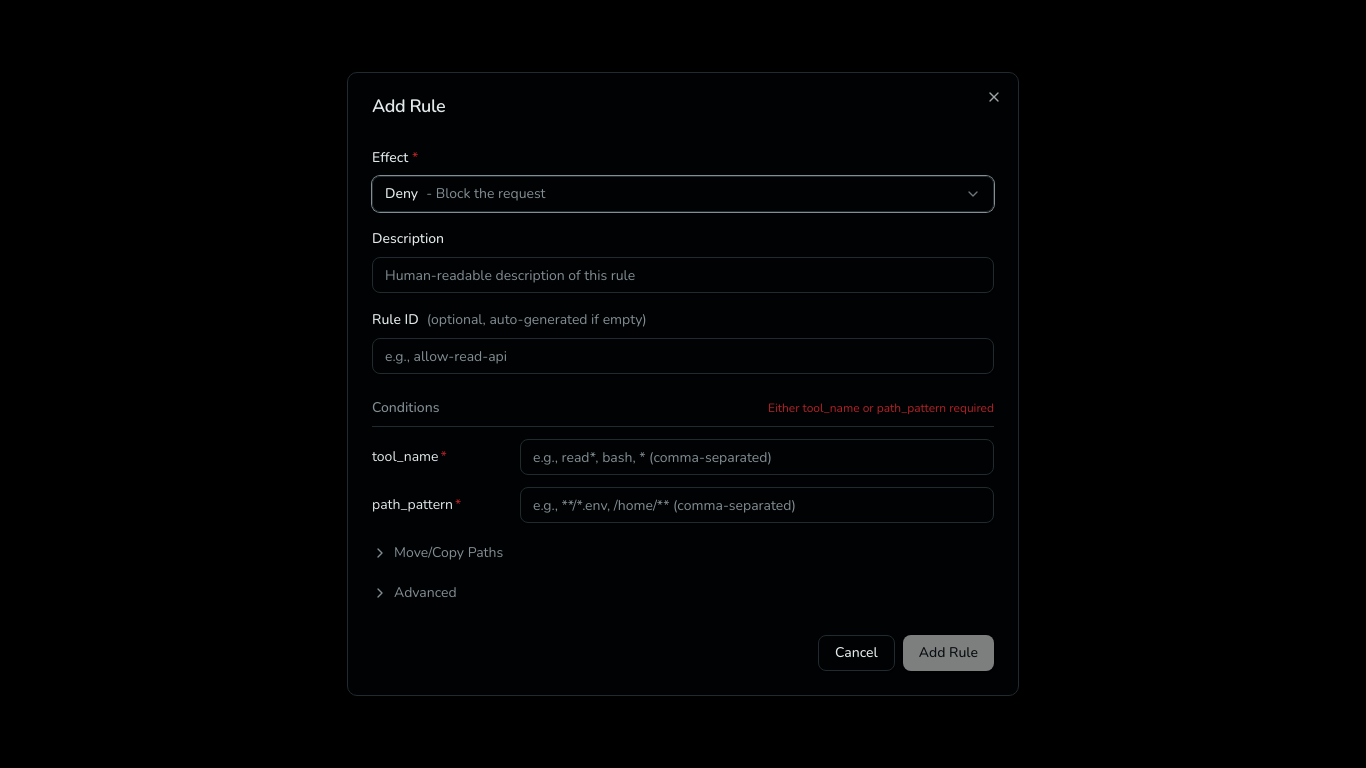
Test: RuleFormDialog › collapsible sections › Move/Copy collapsed by default, expands on click
Expected: the field labelled "source_path" is not shown
Click the button "Move/Copy Paths" at (438, 549), box [372,535,503,563]
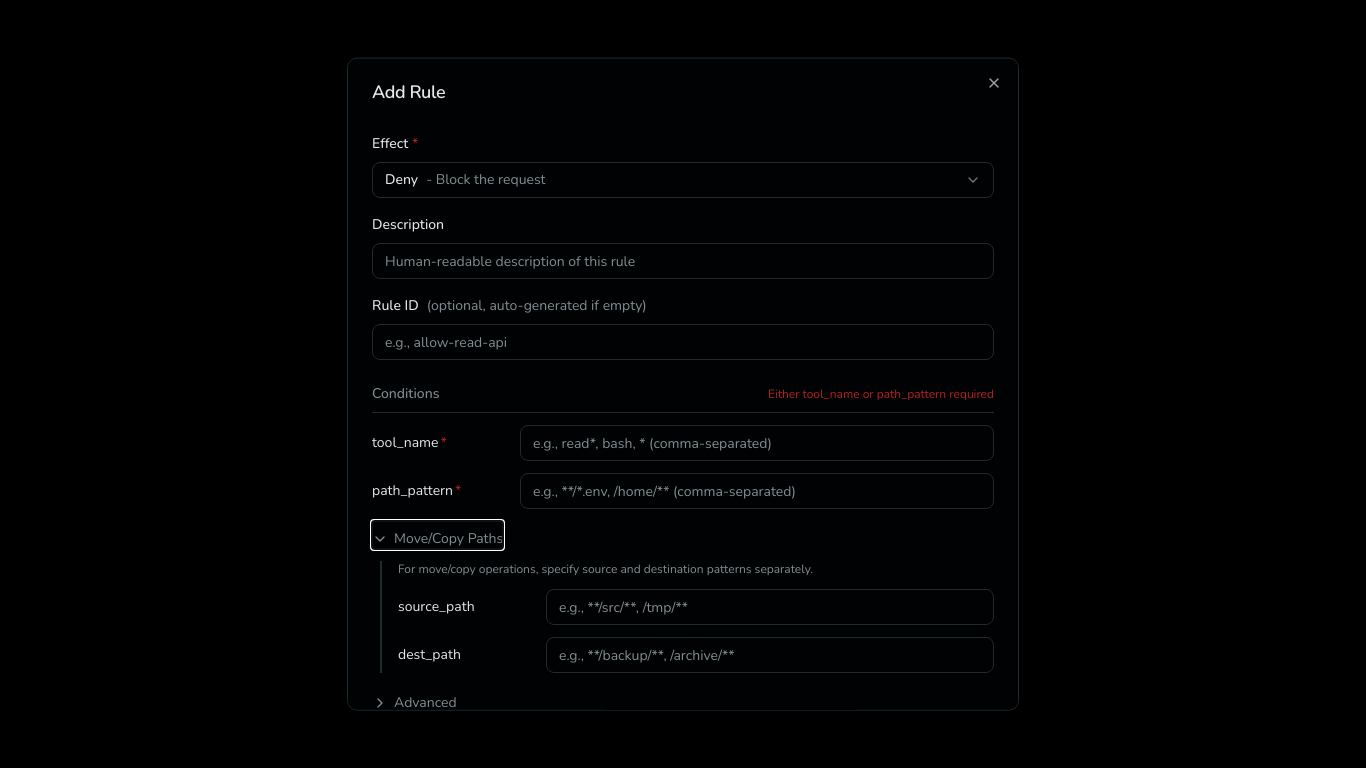
Expected: the field labelled "source_path" is shown, [546,589,994,625]
Expected: the field labelled "dest_path" is shown, [546,637,994,673]
